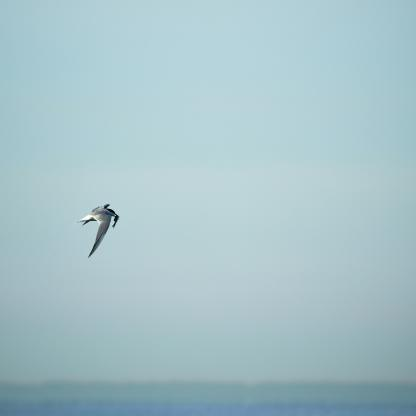bird: (68, 204, 120, 258)
